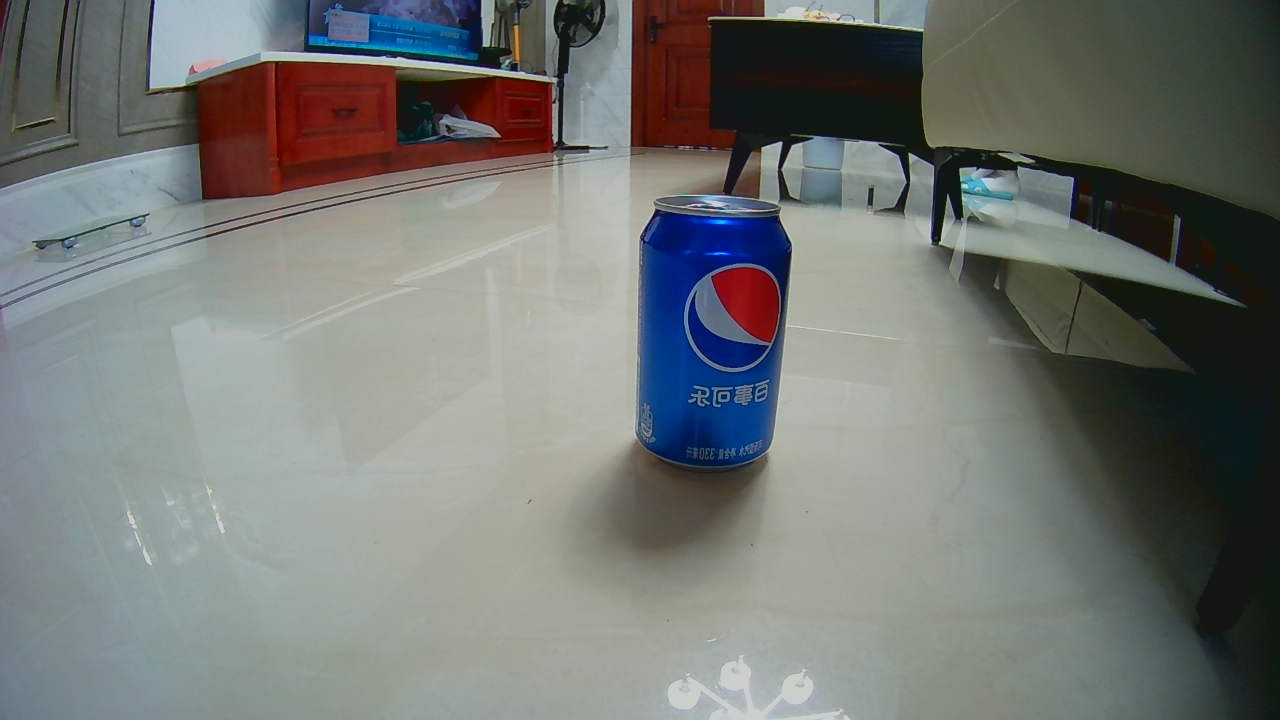pessi: (640, 192, 782, 470)
